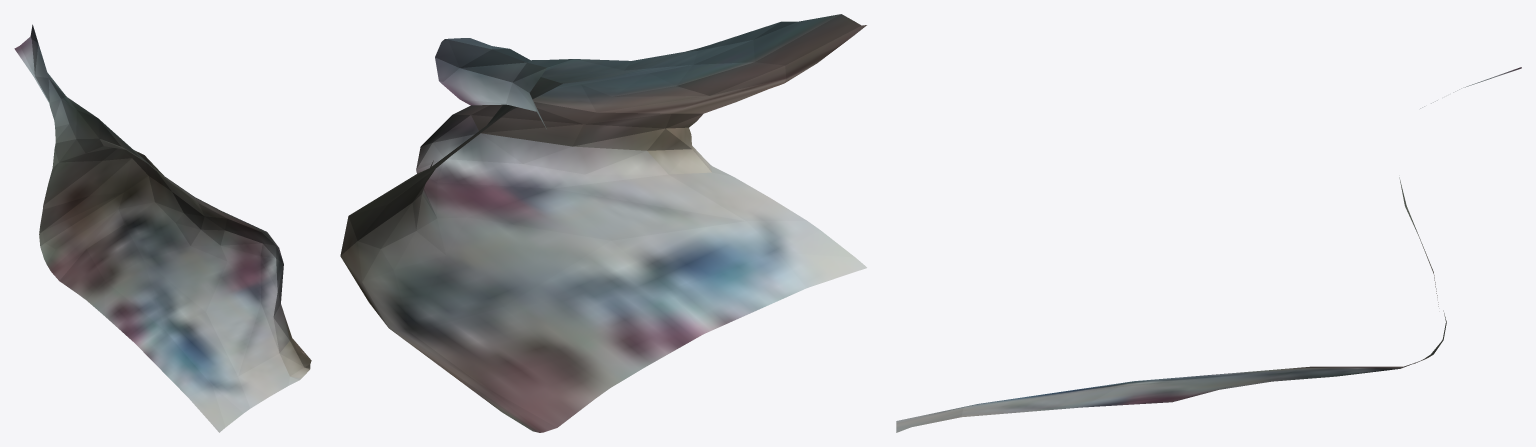
3 views of the same model, side by side, from view 1: azimuth 30°, elevation 25°; view 2: azimuth 150°, elevation 25°; view 3: azimuth 270°, elevation 25° (orthographic). The views are drawn at different scales.
Size of the model in its own units: 17 by 31 by 42.87.
Materials: 1 (1 with a texture image).
